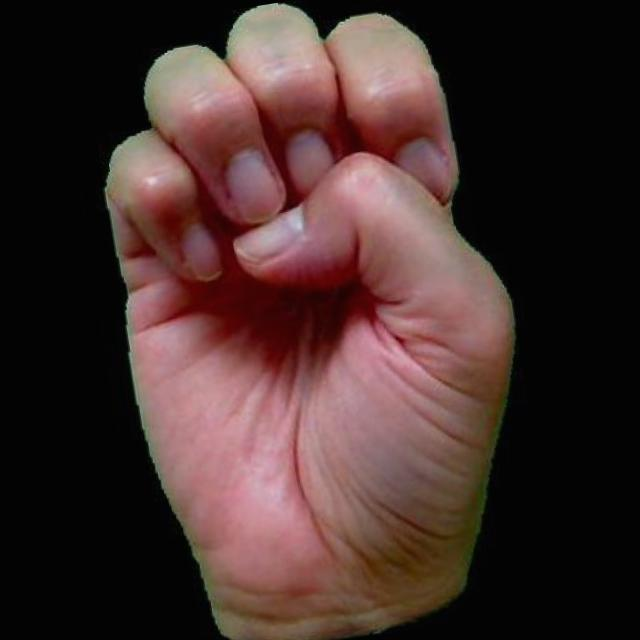e: (52, 0, 569, 640)
